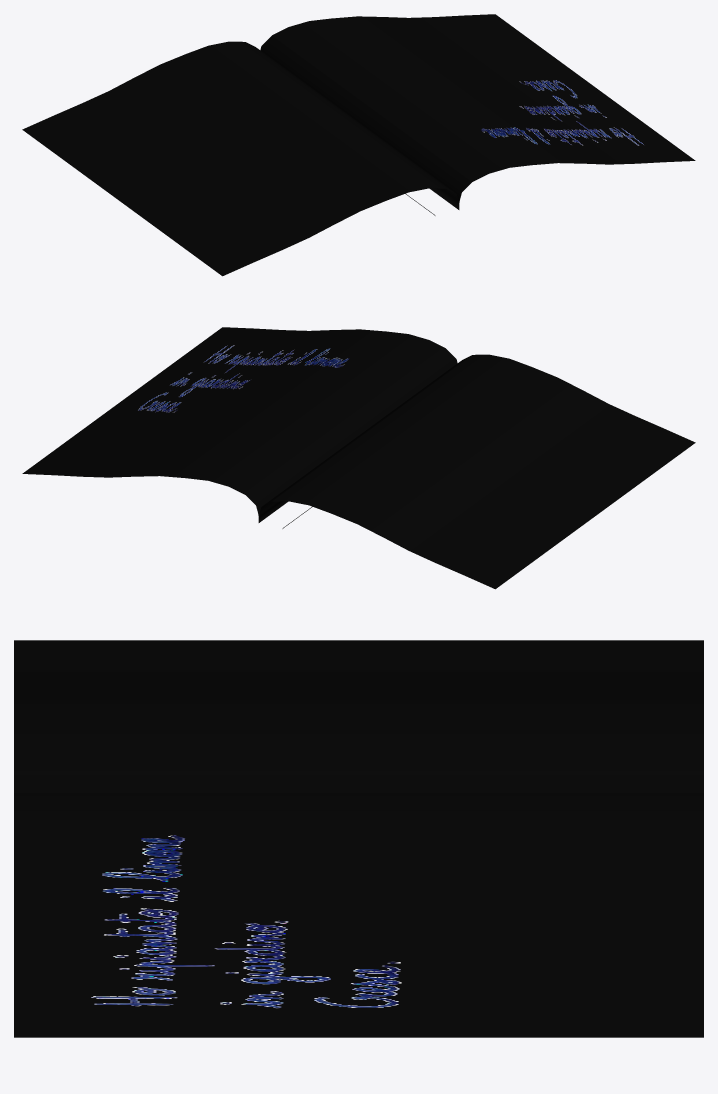
Rendered from pages-future.glb.
3 views of the same model, one above another, from view 1: azimuth 30°, elevation 25°; view 2: azimuth 150°, elevation 25°; view 3: azimuth 270°, elevation 25° (orthographic). The views are drawn at different scales.
Parts seen in each view (by area): view 1: content_future; view 2: content_future; view 3: content_future.
Part boxes in pixels (x1,y1,x2,y2): content_future: (22,14,695,276); content_future: (22,327,695,589); content_future: (14,640,703,1037).
Bounding box in the file's own units: 1.2 × 0.1378 × 0.8492.
Materials: 1 (1 with a texture image).
